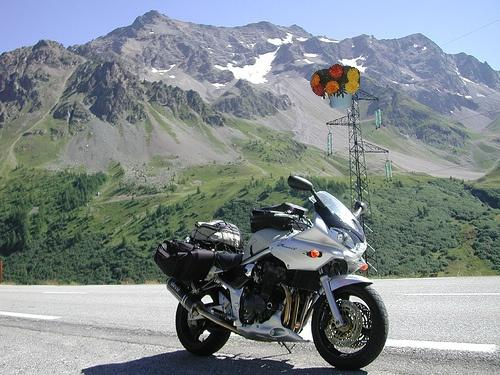tampered: (311, 65, 360, 108)
